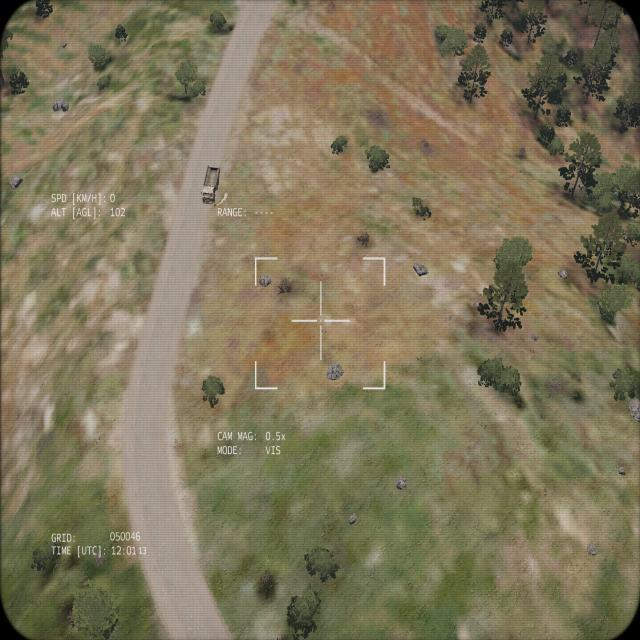truck: (198, 160, 218, 202)
